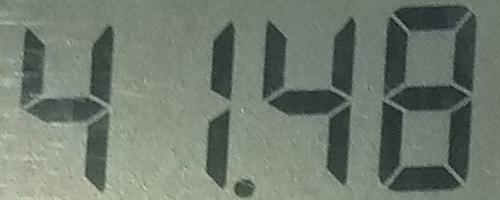.: (232, 176, 258, 198)
